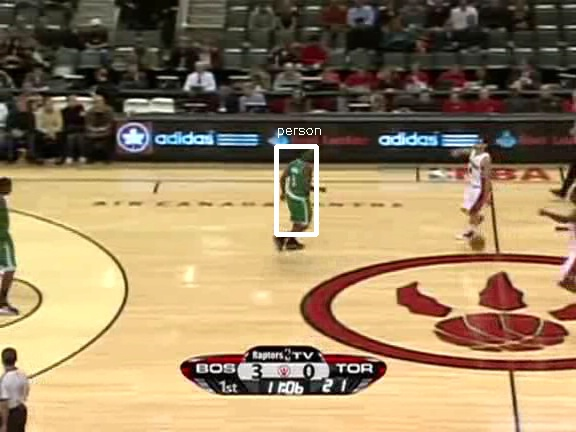person: (282, 156, 316, 237), (281, 156, 315, 237), (283, 156, 317, 237), (282, 155, 316, 236), (282, 157, 316, 238)
target_negative: (132, 7, 457, 244), (46, 82, 62, 397), (495, 100, 517, 296), (521, 236, 533, 418), (514, 317, 517, 377), (386, 431, 497, 432)
